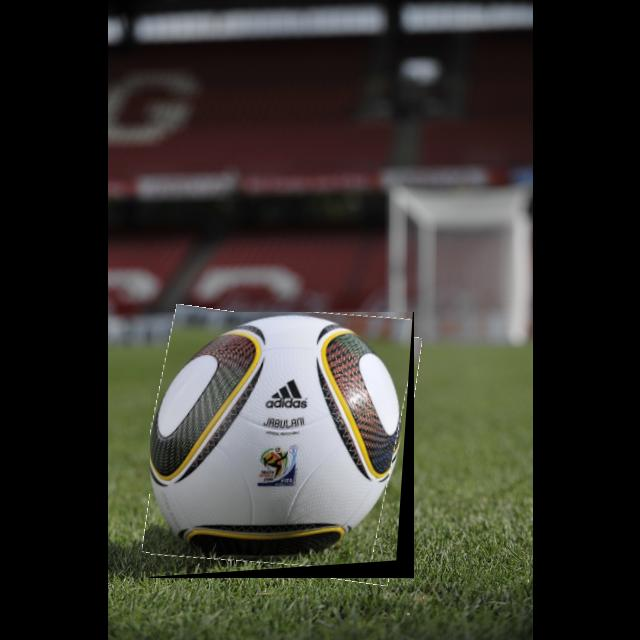Football: (150, 312, 414, 578)
